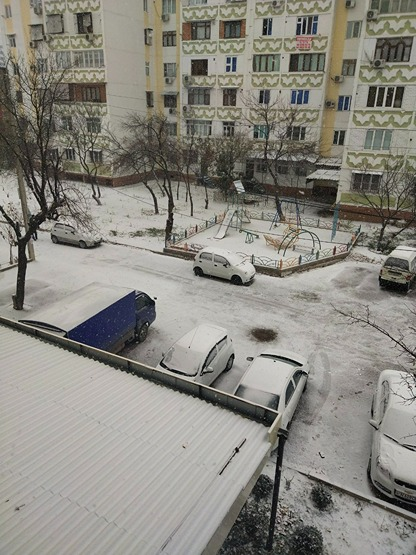car: (359, 364, 416, 492), (240, 341, 324, 422), (159, 317, 230, 380), (188, 238, 264, 291), (373, 244, 416, 288), (53, 219, 109, 249)
tree: (0, 43, 78, 296), (255, 102, 312, 226), (353, 153, 416, 240), (121, 108, 169, 217), (68, 103, 113, 198), (157, 140, 186, 242), (195, 135, 221, 209)
